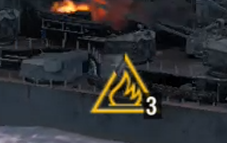3fire: (87, 73, 163, 119)
